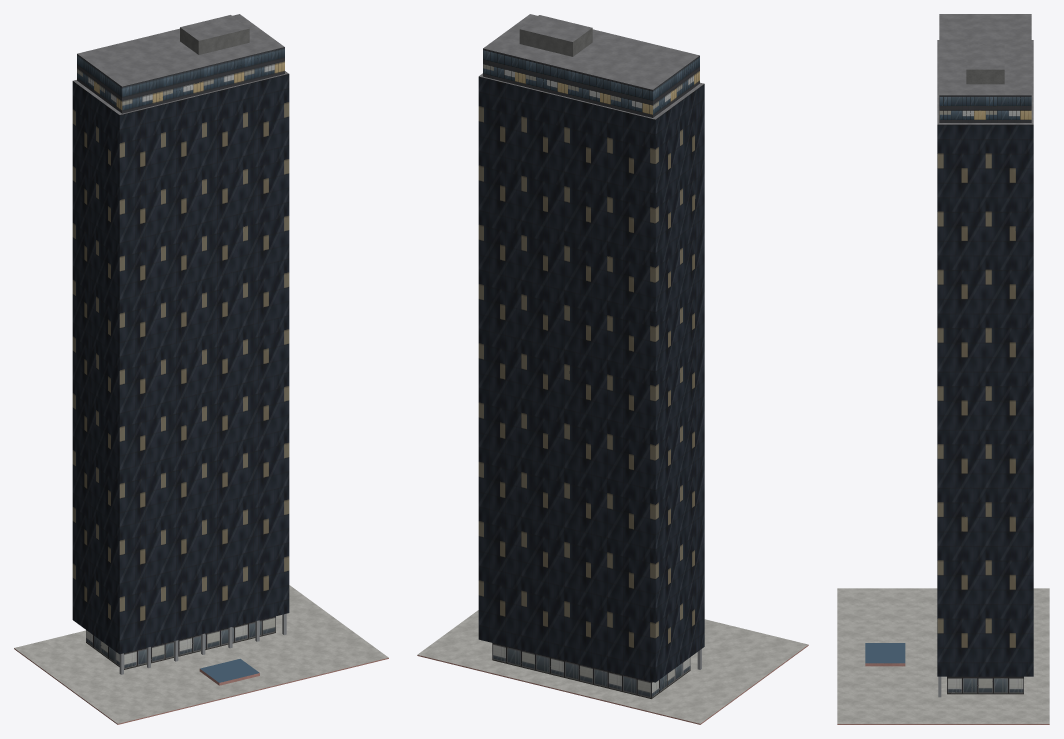
Rendered from 041_glass_slab_dark.glb.
3 renders of one model, left to right at view 1: azimuth 30°, elevation 25°; view 2: azimuth 150°, elevation 25°; view 3: azimuth 270°, elevation 25°, orthographic. The views are drawn at different scales.
Visible parts, largest first — view 1: 041_glass_slab_dark; view 2: 041_glass_slab_dark; view 3: 041_glass_slab_dark.
Part boxes in pixels (x1=…): 041_glass_slab_dark: x1=14, y1=14, x2=388, y2=724; 041_glass_slab_dark: x1=417, y1=14, x2=808, y2=724; 041_glass_slab_dark: x1=837, y1=14, x2=1049, y2=724.
Bounding box in the file's own units: 80 × 170 × 53.
Materials: 9 (7 with a texture image).
